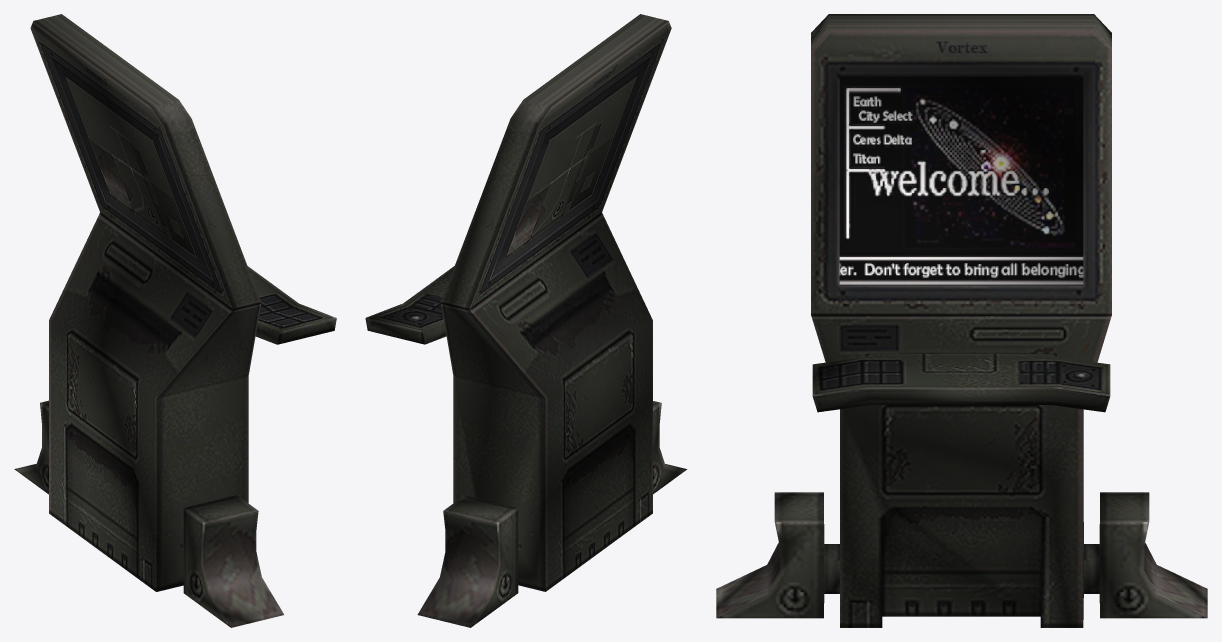
The model's file is portal_terminal.glb.
3 views of the same model, side by side, from view 1: azimuth 30°, elevation 25°; view 2: azimuth 150°, elevation 25°; view 3: azimuth 270°, elevation 25° (orthographic). The views are drawn at different scales.
Visible parts, largest first — view 1: Box01; view 2: Box01; view 3: Box01.
Part boxes in pixels (x1,y1,x2,y2): Box01: (14, 14, 336, 627); Box01: (365, 14, 687, 627); Box01: (716, 14, 1207, 627).
Size of the model in its own units: 22.63 by 59.41 by 47.45.
1 material, 1 textured.
